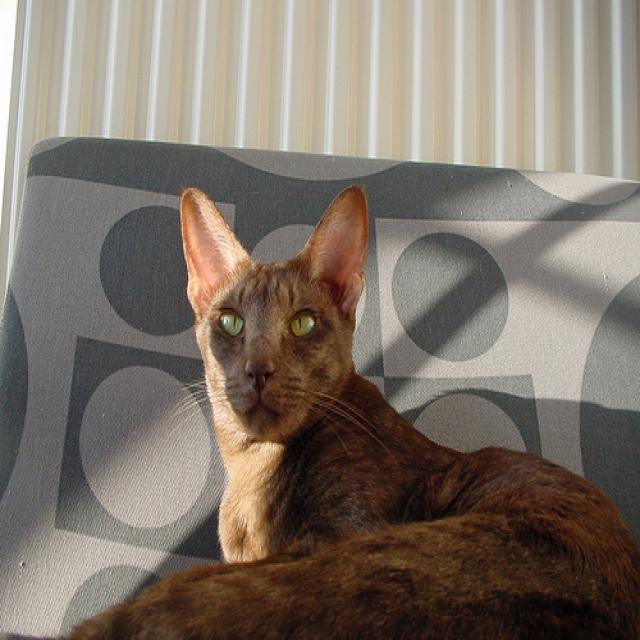left eye: (287, 306, 317, 339)
